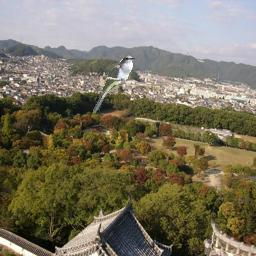Cuckoo: (92, 55, 135, 113)
